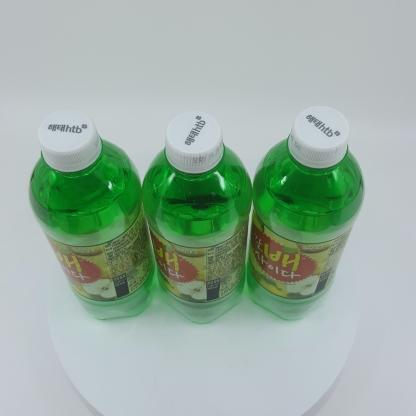-------500ML: (28, 109, 156, 320), (246, 106, 365, 320), (142, 111, 252, 323)
